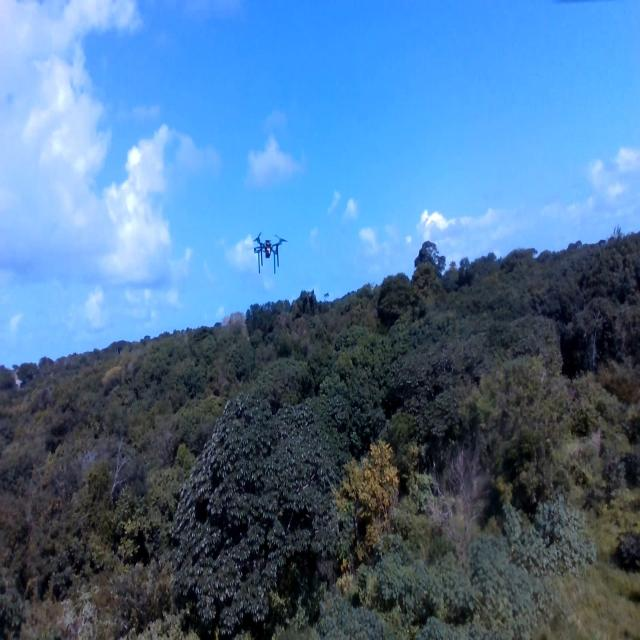-uav-: (248, 219, 290, 276)
